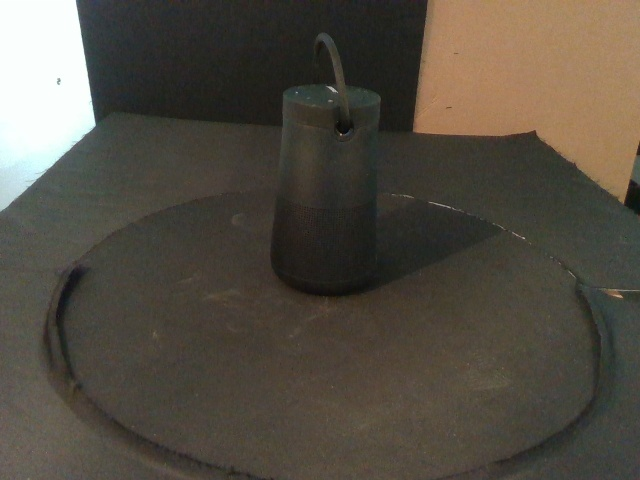speaker: (271, 84, 383, 300)
